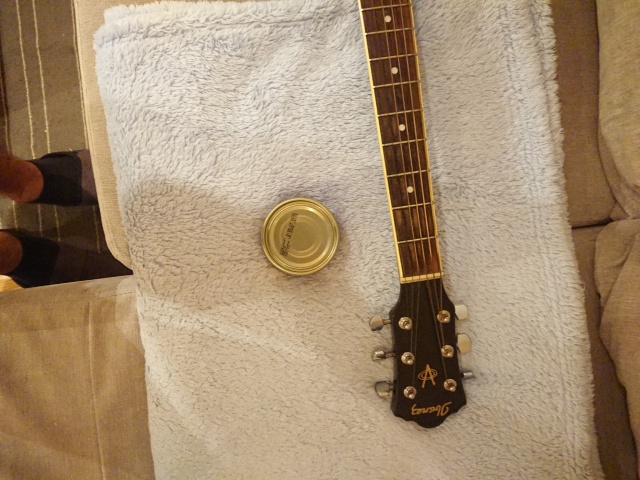Giana Tuna Salad Mexico 185g: (258, 194, 345, 279)
